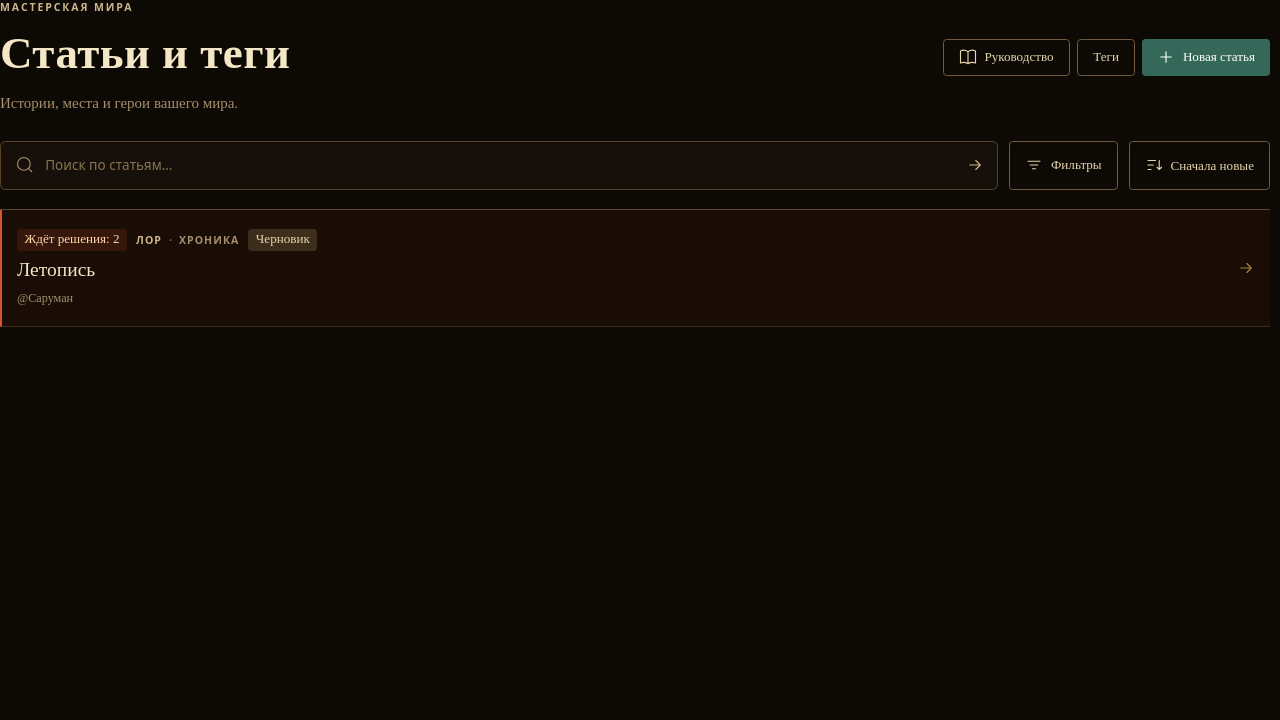
Test: Article editor workspace › keeps type and tag controls inside the filters drawer
Click the button "Фильтры".
click(1064, 165)  # box [1010,141,1118,190]
(page scrolled)
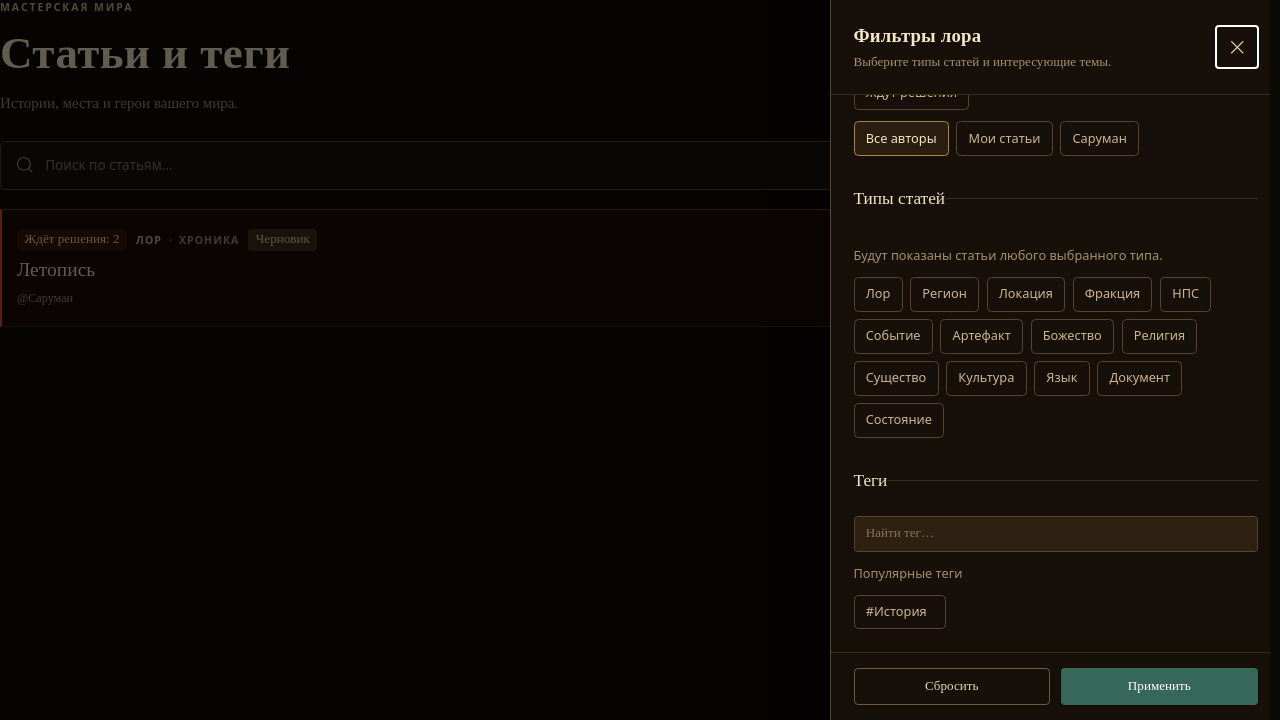
Now the dialog "Фильтры лора" is shown, box [830,0,1279,719]
Now the text "Типы статей" is shown, box [854,186,945,212]
Now the field named "Поиск тегов" is shown, box [854,516,1258,552]
Click the button "#История".
click(900, 612)  # box [854,595,946,629]
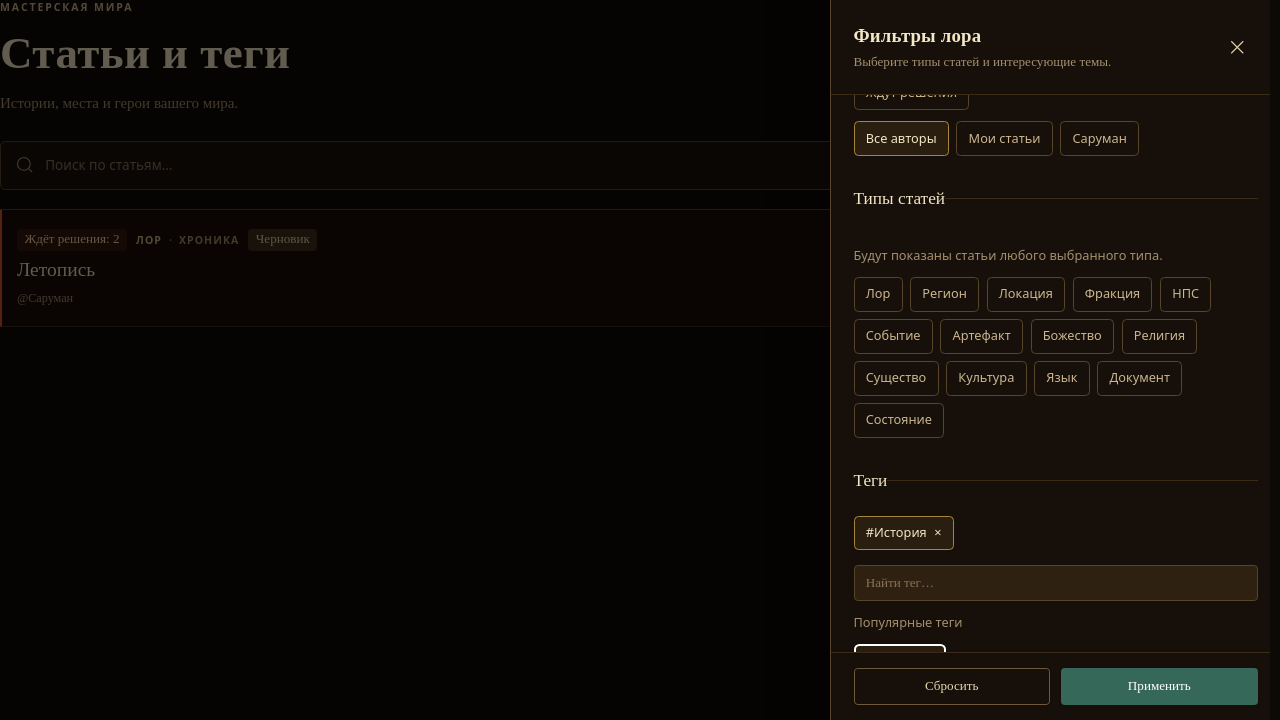
Now the number of dialogs is 1, box [830,0,1279,719]
Click the button "Применить".
click(1159, 686)  # box [1061,668,1258,705]
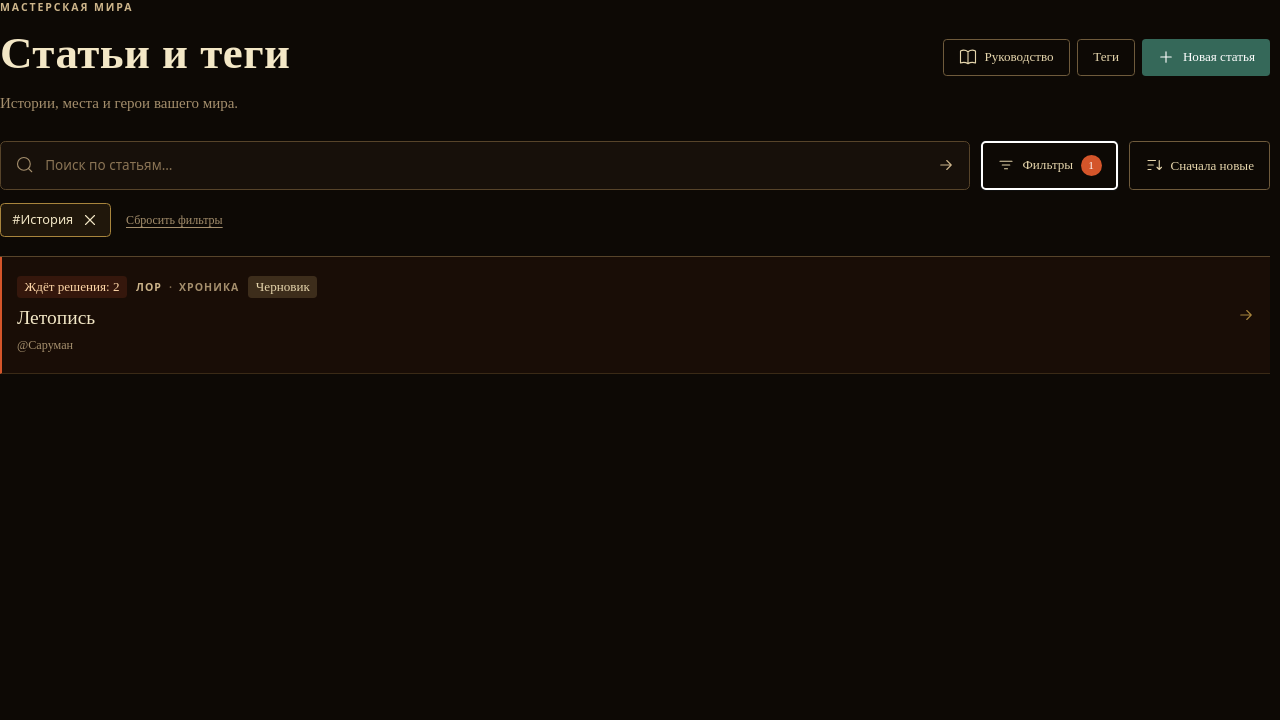
Now the dialog is gone
